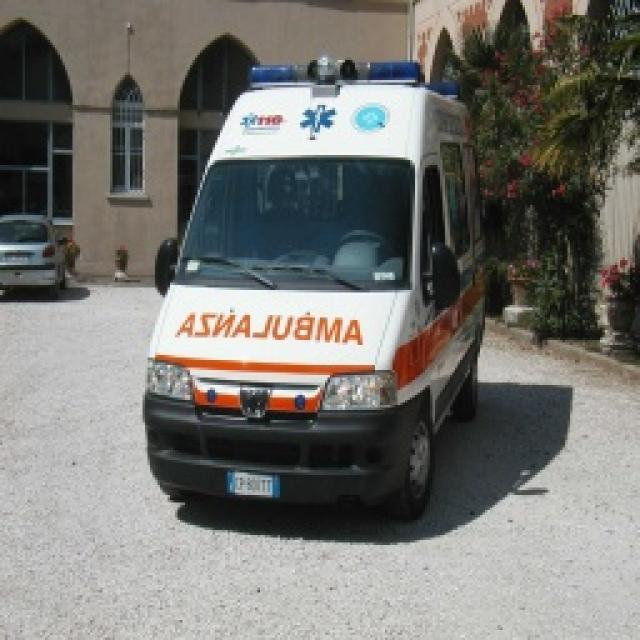ambulance: (142, 60, 480, 512), (0, 12, 80, 298)
